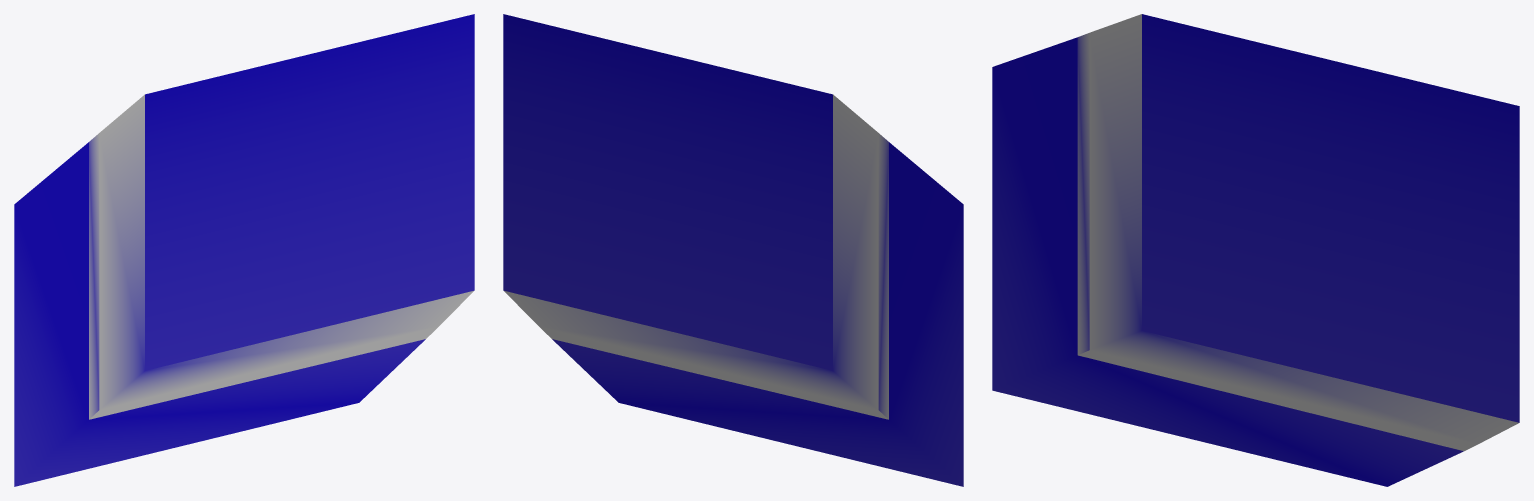
File: InSideLie_U_Shadow.fbx
3 views of the same model, side by side, from view 1: azimuth 30°, elevation 25°; view 2: azimuth 150°, elevation 25°; view 3: azimuth 330°, elevation 25° (orthographic). The views are drawn at different scales.
Parts seen in each view (by area): view 1: InSideLie_U_Shadow; view 2: InSideLie_U_Shadow; view 3: InSideLie_U_Shadow.
Boxes of the visible parts, x1,y1,x2,y2 form: InSideLie_U_Shadow: (14, 14, 474, 486); InSideLie_U_Shadow: (503, 14, 963, 486); InSideLie_U_Shadow: (992, 14, 1519, 486).
Bounding box in the file's own units: 6.53 × 4.89 × 9.52e-07.
